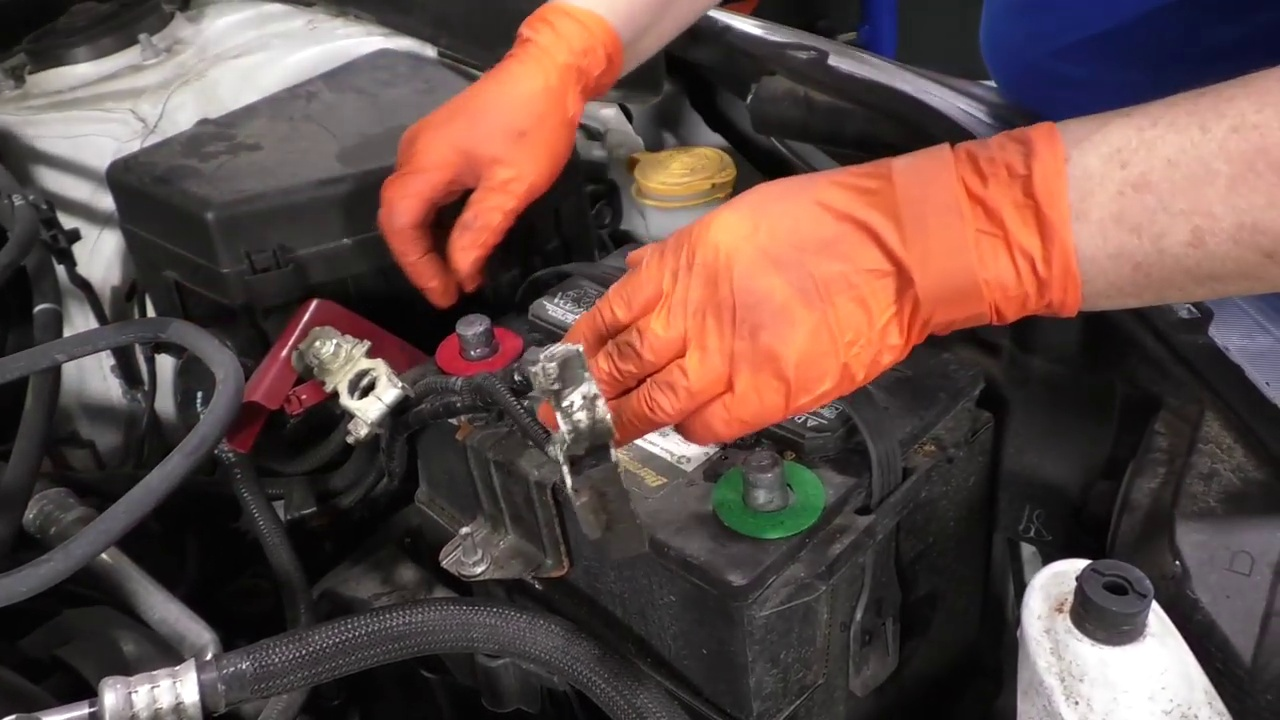battery: (428, 245, 986, 552)
neg_disconnected: (699, 431, 824, 553)
neg_touched: (621, 302, 836, 556)
pos_disconnected: (261, 310, 529, 441)
pos_touched: (361, 173, 531, 393)
